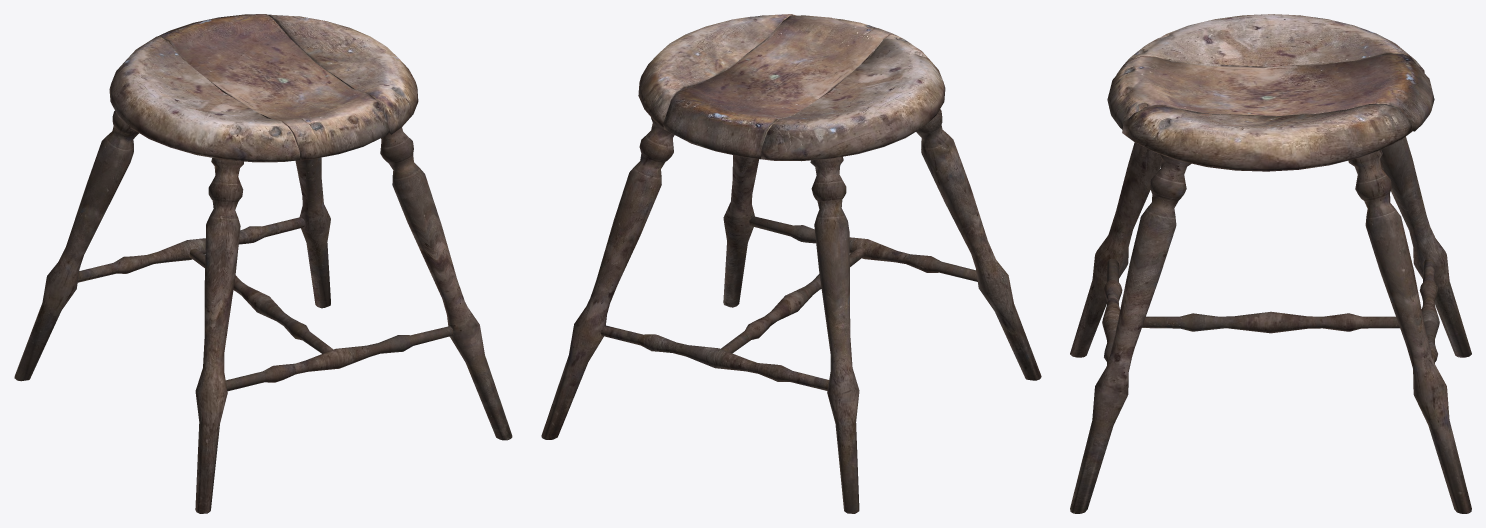
Rendered from wooden_stool_01.glb.
3 renders of one model, left to right at view 1: azimuth 30°, elevation 25°; view 2: azimuth 150°, elevation 25°; view 3: azimuth 270°, elevation 25°, orthographic. The views are drawn at different scales.
Parts seen in each view (by area): view 1: wooden_stool_01; view 2: wooden_stool_01; view 3: wooden_stool_01.
Boxes of the visible parts, x1,y1,x2,y2 form: wooden_stool_01: (14,14,512,513); wooden_stool_01: (541,14,1041,513); wooden_stool_01: (1070,14,1471,513).
Size of the model in its own units: 0.4252 by 0.4375 by 0.4421.
1 material, 1 textured.
